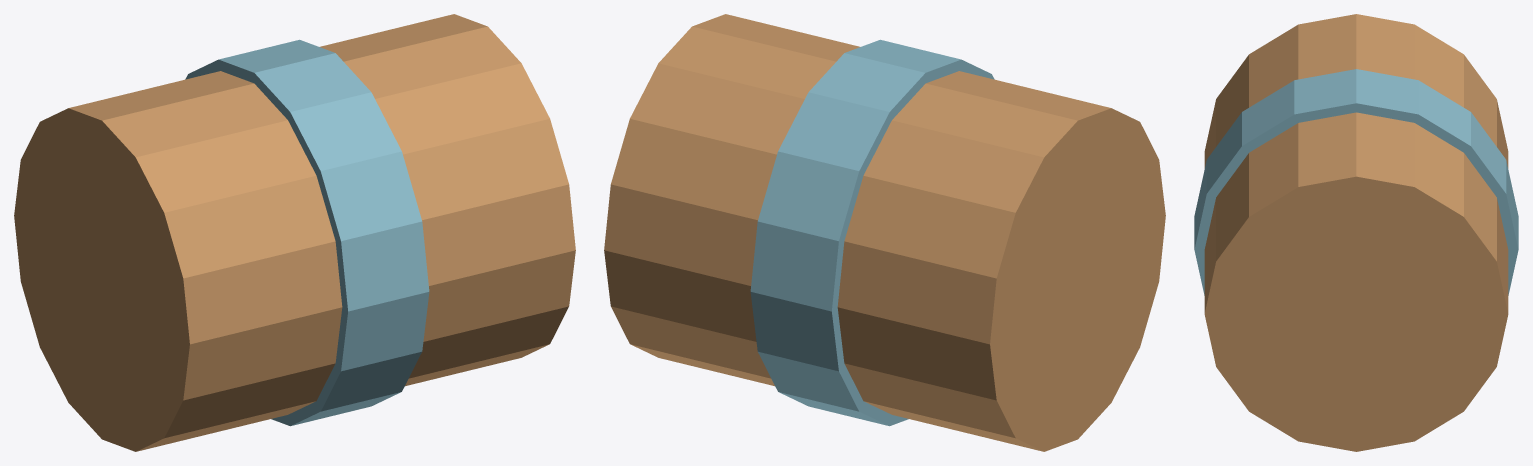
The model's file is 08_L69_RefrigerantSightGlass.glb.
3 renders of one model, left to right at view 1: azimuth 30°, elevation 25°; view 2: azimuth 150°, elevation 25°; view 3: azimuth 270°, elevation 25°, orthographic. The views are drawn at different scales.
Parts seen in each view (by area): view 1: RefrigerantSightGlass_Part_000, RefrigerantSightGlass_Part_001; view 2: RefrigerantSightGlass_Part_000, RefrigerantSightGlass_Part_001; view 3: RefrigerantSightGlass_Part_000, RefrigerantSightGlass_Part_001.
Boxes of the visible parts, <box> form: RefrigerantSightGlass_Part_000: <box>14,14,575,451</box>; RefrigerantSightGlass_Part_001: <box>185,39,429,426</box>; RefrigerantSightGlass_Part_000: <box>604,14,1165,451</box>; RefrigerantSightGlass_Part_001: <box>750,39,994,426</box>; RefrigerantSightGlass_Part_000: <box>1204,14,1508,451</box>; RefrigerantSightGlass_Part_001: <box>1194,69,1518,295</box>.
Size of the model in its own units: 0.38 by 0.32 by 0.32.
